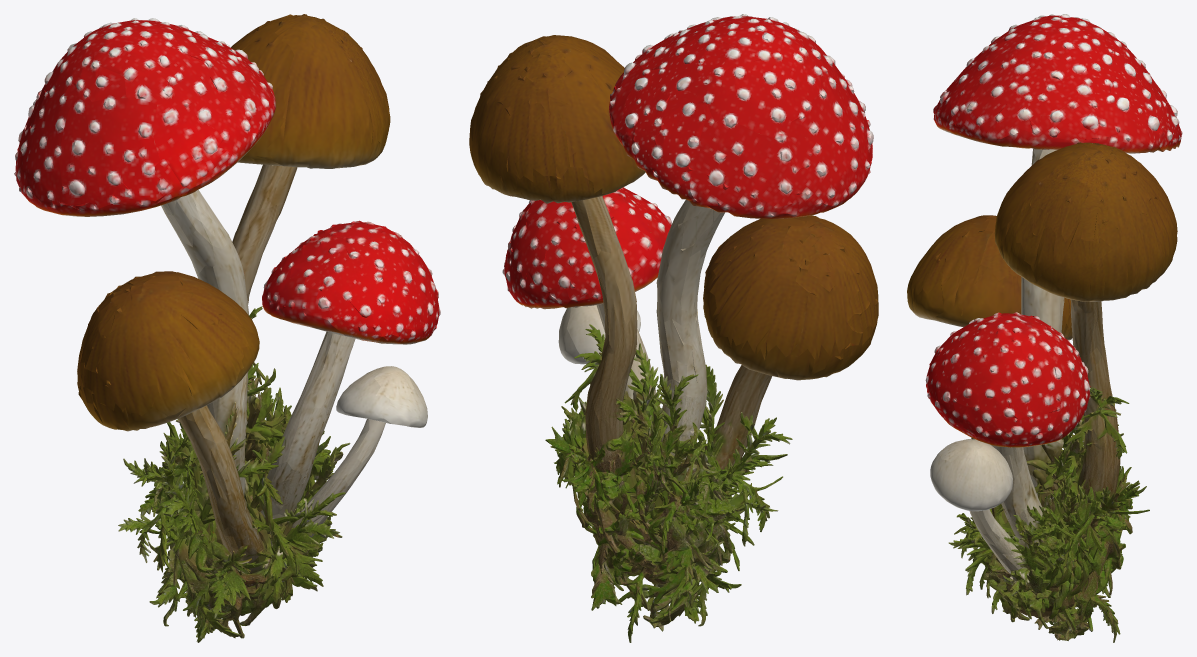
Rendered from rainforest-mushrooms.glb.
The picture shows the model from 3 angles, left to right: view 1: azimuth 30°, elevation 25°; view 2: azimuth 150°, elevation 25°; view 3: azimuth 270°, elevation 25°; orthographic projection. The views are drawn at different scales.
Parts seen in each view (by area): view 1: output_unwrapped; view 2: output_unwrapped; view 3: output_unwrapped.
Boxes of the visible parts, x1=… form: output_unwrapped: x1=14, y1=14, x2=440, y2=642; output_unwrapped: x1=469, y1=14, x2=878, y2=642; output_unwrapped: x1=907, y1=14, x2=1182, y2=642.
Size of the model in its own units: 1.18 by 1.9 by 0.8158.
Materials: 1 (1 with a texture image).
